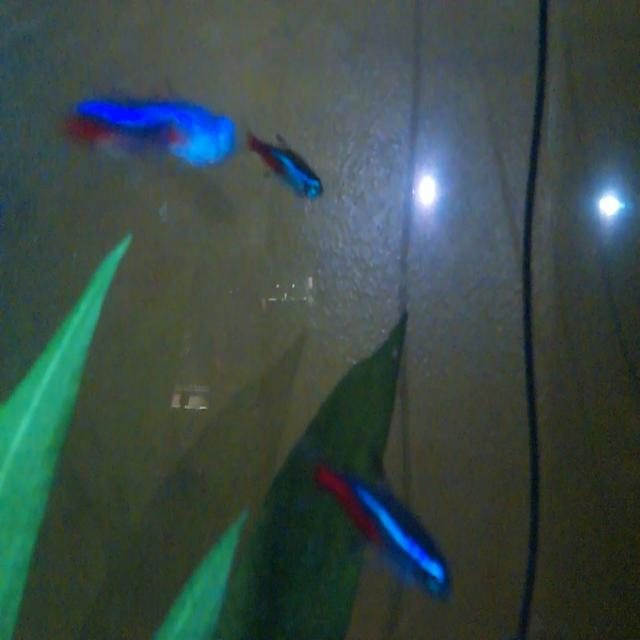fish: (309, 459, 466, 612), (59, 80, 242, 189), (240, 116, 332, 212)
